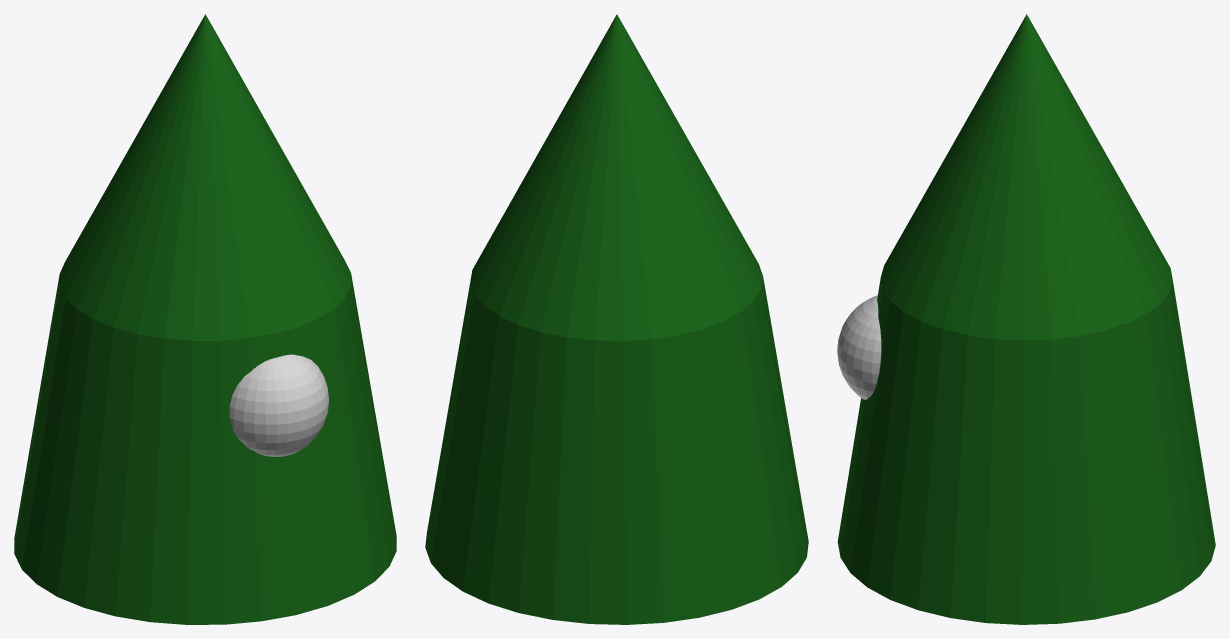
The model's file is player.obj.
The picture shows the model from 3 angles, left to right: view 1: azimuth 30°, elevation 25°; view 2: azimuth 150°, elevation 25°; view 3: azimuth 270°, elevation 25°; orthographic projection.
Visible parts, largest first — view 1: 球.002_球.003; view 2: 球.002_球.003; view 3: 球.002_球.003.
Part boxes in pixels (x1,y1,x2,y2): 球.002_球.003: (14,14,396,624); 球.002_球.003: (425,14,808,624); 球.002_球.003: (837,14,1215,624).
Size of the model in its own units: 2.63 by 4 by 2.59.
1 material, 1 textured.
